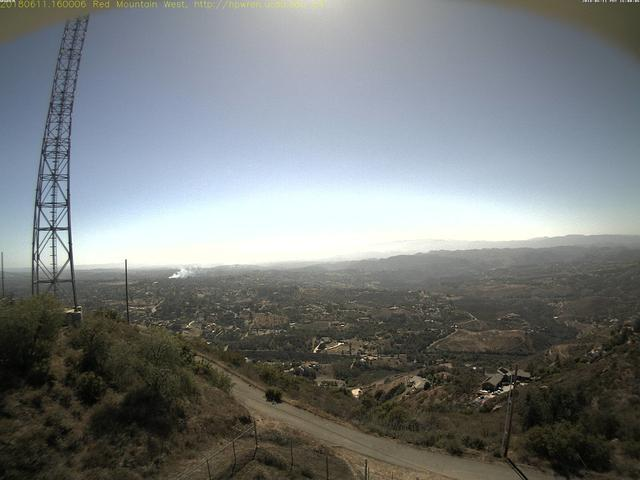smoke: (165, 258, 208, 279)
